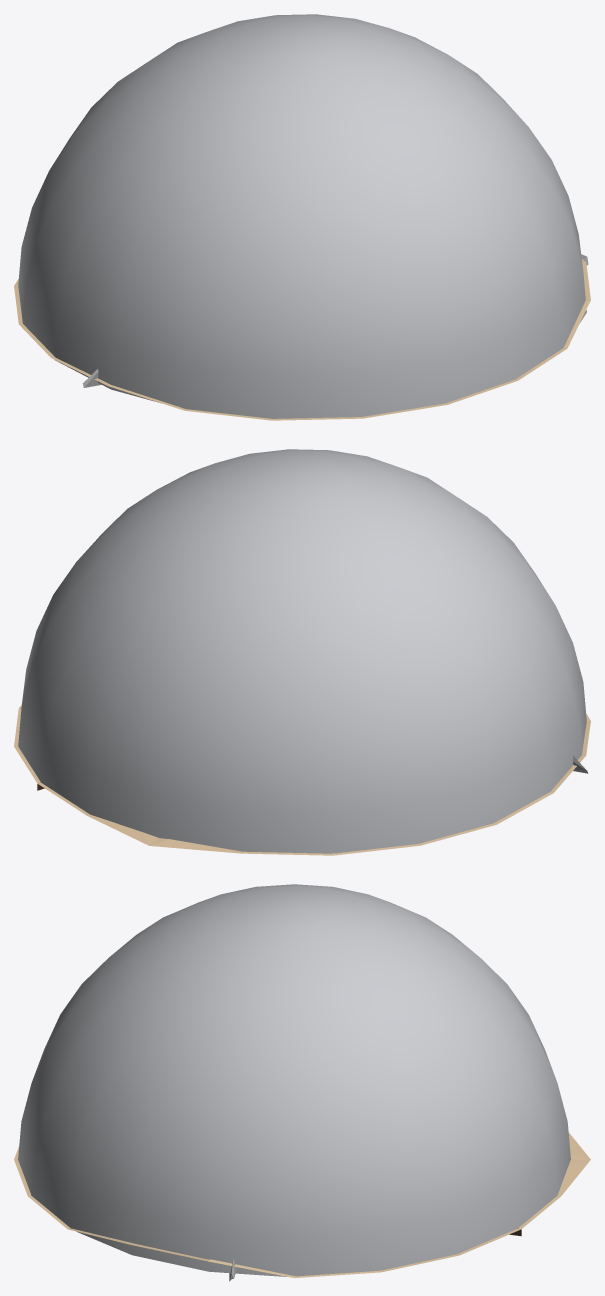
File: fbxBIOMEtweek.fbx
3 views of the same model, one above another, from view 1: azimuth 30°, elevation 25°; view 2: azimuth 150°, elevation 25°; view 3: azimuth 270°, elevation 25° (orthographic). The views are drawn at different scales.
Parts seen in each view (by area): view 1: sky_01, ground_01; view 2: sky_01, ground_01; view 3: sky_01, ground_01.
Part boxes in pixels (bbox=[...]): sky_01: bbox=[18, 14, 586, 418]; ground_01: bbox=[14, 259, 590, 420]; sky_01: bbox=[18, 449, 586, 853]; ground_01: bbox=[14, 705, 590, 855]; sky_01: bbox=[18, 884, 570, 1276]; ground_01: bbox=[14, 1132, 590, 1278].
Size of the model in its own units: 258 by 139 by 264.
